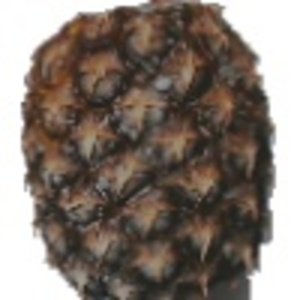abacaxi: (13, 2, 281, 300)
